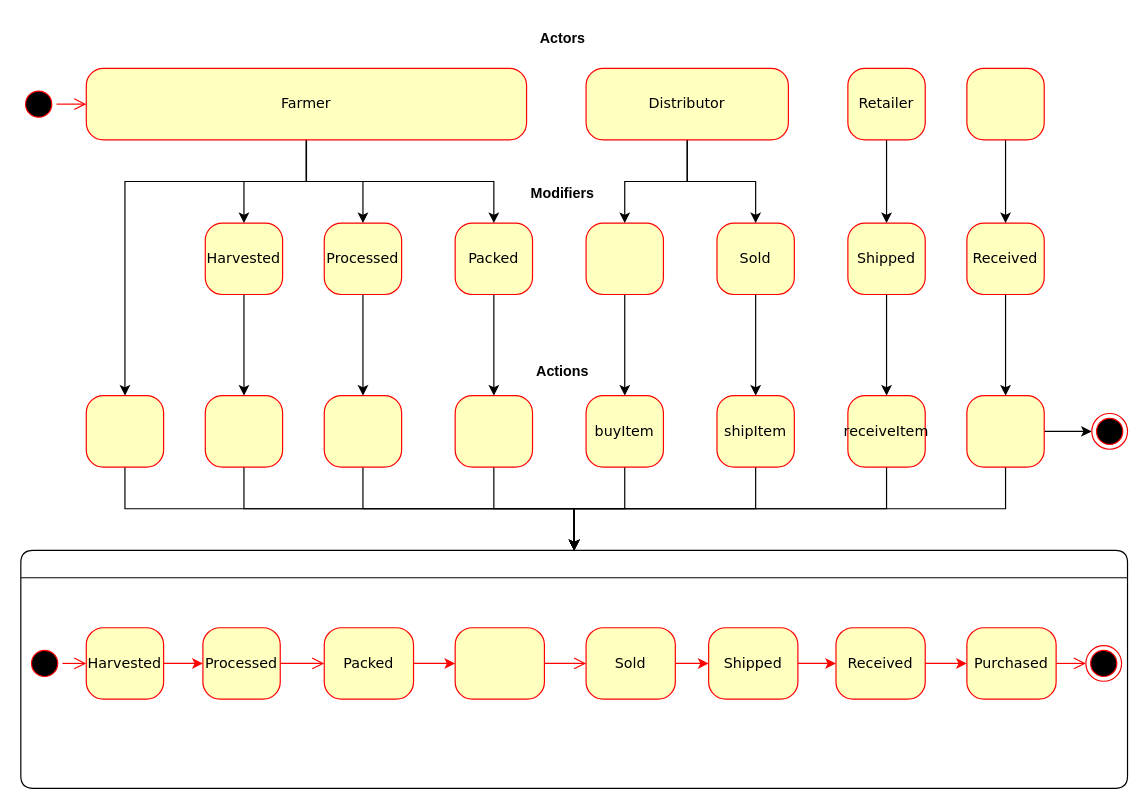
The diagram is 1148 pixels wide and 809 high, and some of its shapes have lost their labels. The box of each missing label's shape, as (x1, y1, x2, y2) in pixels:
Coffee Bean State: (20, 549, 1128, 788)
Consumer: (966, 67, 1044, 140)
ForSale: (454, 627, 544, 699)
harvestItem: (85, 394, 164, 467)
packItem: (323, 394, 402, 467)
Paid (ForSale): (585, 222, 663, 295)
processItem: (204, 394, 283, 467)
purhaseItem: (966, 394, 1044, 467)
sellItem: (454, 394, 533, 467)
